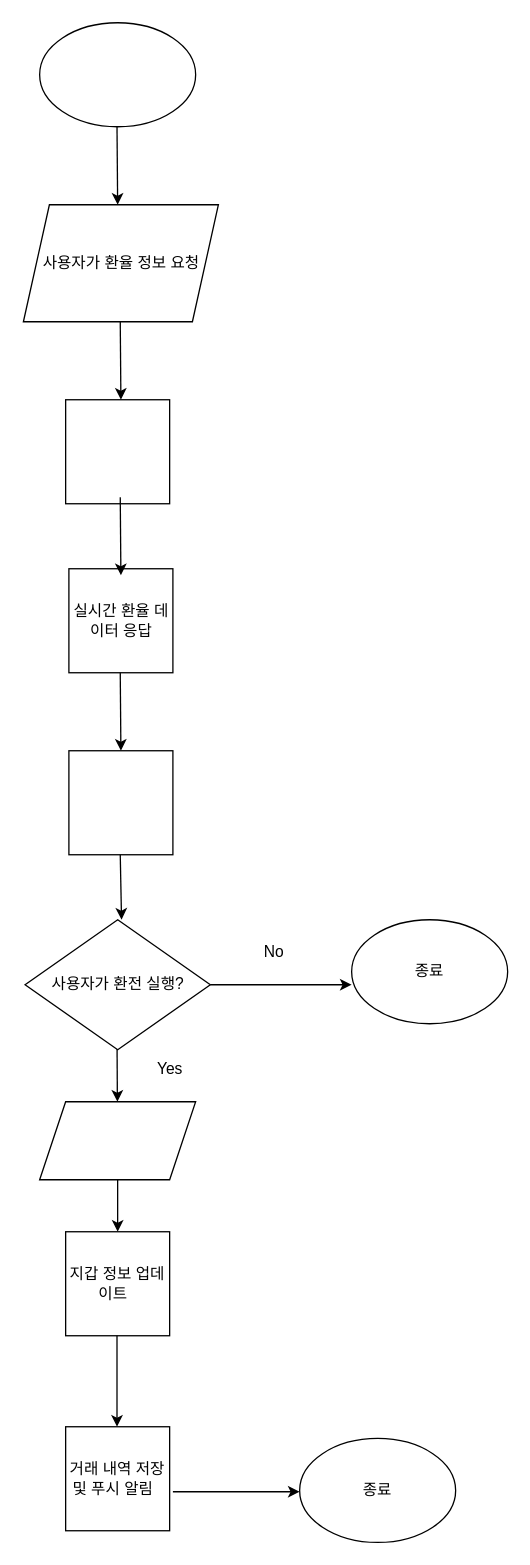
Image size: 530x1565. Some labels were removed from this diagram. The centre of each missing label's shape, as x and y in pixels:
"서버가 외부 환율 API 호출" belongs at (117,451).
"환율 변환 후 사용자에게 표시" belongs at (120,802).
"환율 정보 페이지" belongs at (117,74).
"환전 실행 요청" belongs at (117,1140).
